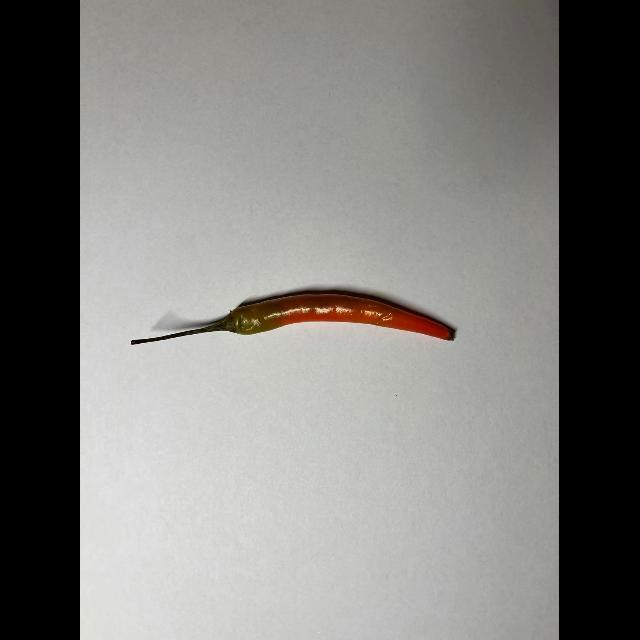chili_pepper: (131, 288, 462, 348)
